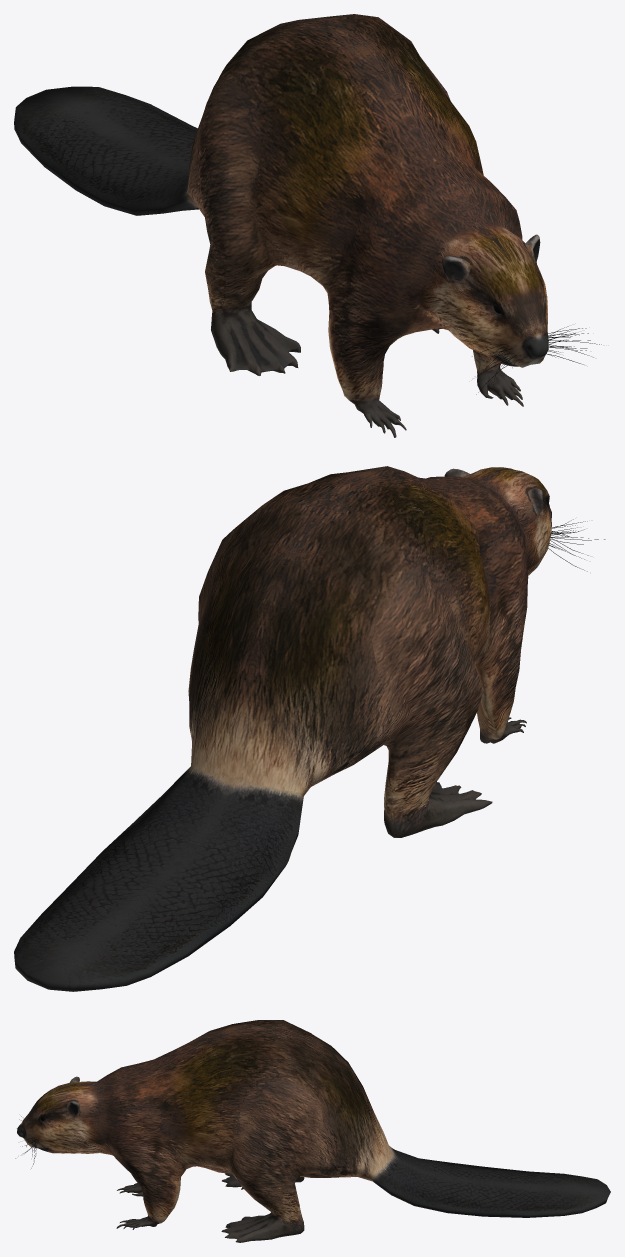
Rendered from realistic_beaver__castor_3d_model.glb.
The picture shows the model from 3 angles, top to bottom: view 1: azimuth 30°, elevation 25°; view 2: azimuth 150°, elevation 25°; view 3: azimuth 270°, elevation 25°; orthographic projection. The views are drawn at different scales.
Parts seen in each view (by area): view 1: sm_2_0_0_0; view 2: sm_2_0_0_0; view 3: sm_2_0_0_0.
Part boxes in pixels (left/top/right/bottom): sm_2_0_0_0: left=14, top=14, right=601, bottom=437; sm_2_0_0_0: left=14, top=466, right=605, bottom=991; sm_2_0_0_0: left=15, top=1020, right=610, bottom=1242.
Size of the model in its own units: 0.417 by 0.4677 by 1.39.
2 materials, 2 textured.
